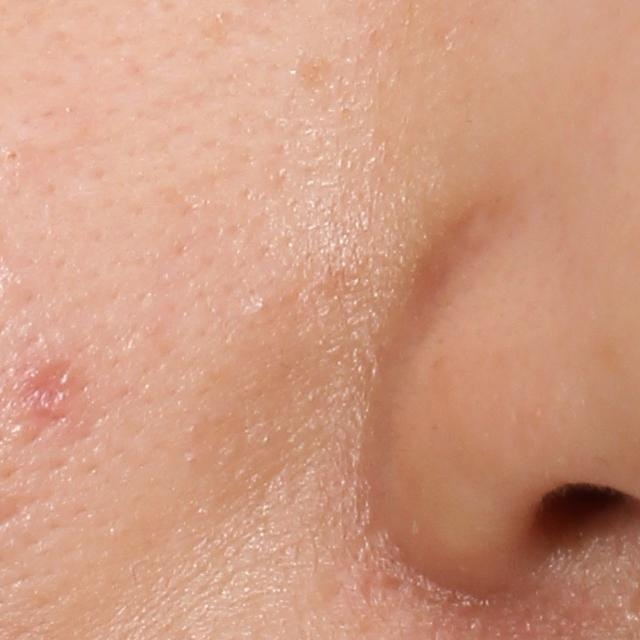atrophic_scar: (26, 359, 69, 407)
comedo: (246, 293, 274, 319), (2, 148, 23, 165)
